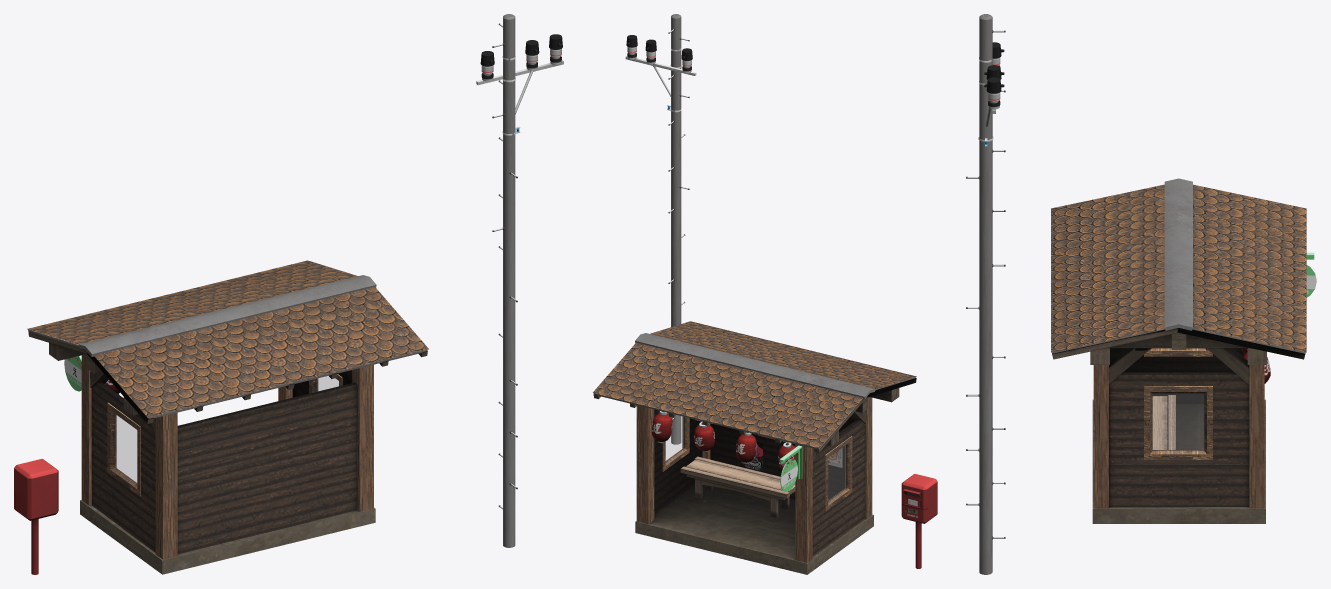
The model's file is testBrtStation.glb.
The picture shows the model from 3 angles, left to right: view 1: azimuth 30°, elevation 25°; view 2: azimuth 150°, elevation 25°; view 3: azimuth 270°, elevation 25°; orthographic projection. The views are drawn at different scales.
Visible parts, largest first — view 1: Object018_Material #26_0, Object032_Material #65_0, Object033_Material #64_0, Object033_Material #66_0, Object036_Material #64_0; view 2: Object018_Material #26_0, Object032_Material #65_0, Object033_Material #64_0, Box010, Lamp_Material #64_0, Object033_Material #66_0, Object036_Material #64_0, Object059_Material #64_0, Object059_Material #66_0; view 3: Object018_Material #26_0, Object032_Material #65_0, Object059_Material #66_0, Object059_Material #64_0, Box010, Object033_Material #64_0, Object036_Material #64_0, Object024_Material #26_0, Object031_Material #26_0, Object039_Material #64_0.
Boxes of the visible parts, x1,y1,x2,y2 form: Object018_Material #26_0: (27, 260, 428, 574); Object032_Material #65_0: (503, 14, 515, 547); Object033_Material #64_0: (14, 356, 140, 574); Object033_Material #66_0: (115, 414, 136, 482); Object036_Material #64_0: (480, 34, 562, 81); Object018_Material #26_0: (593, 321, 916, 574); Object032_Material #65_0: (671, 14, 681, 444); Object033_Material #64_0: (779, 436, 937, 568); Box010: (680, 456, 795, 517); Lamp_Material #64_0: (651, 411, 795, 468); Object033_Material #66_0: (828, 445, 845, 500); Object036_Material #64_0: (626, 35, 692, 72); Object059_Material #64_0: (662, 413, 689, 471); Object059_Material #66_0: (666, 415, 683, 460); Object018_Material #26_0: (1051, 178, 1306, 523); Object032_Material #65_0: (979, 14, 992, 574); Object059_Material #66_0: (1153, 393, 1203, 449); Object059_Material #64_0: (1144, 386, 1212, 459); Box010: (1152, 395, 1175, 449); Object033_Material #64_0: (1144, 252, 1316, 356); Object036_Material #64_0: (984, 42, 1004, 109); Object024_Material #26_0: (1177, 328, 1305, 359); Object031_Material #26_0: (1052, 328, 1178, 359); Object039_Material #64_0: (966, 30, 1005, 539).
Bounding box in the file's own units: 804 × 883 × 504.
5 materials, 4 textured.
